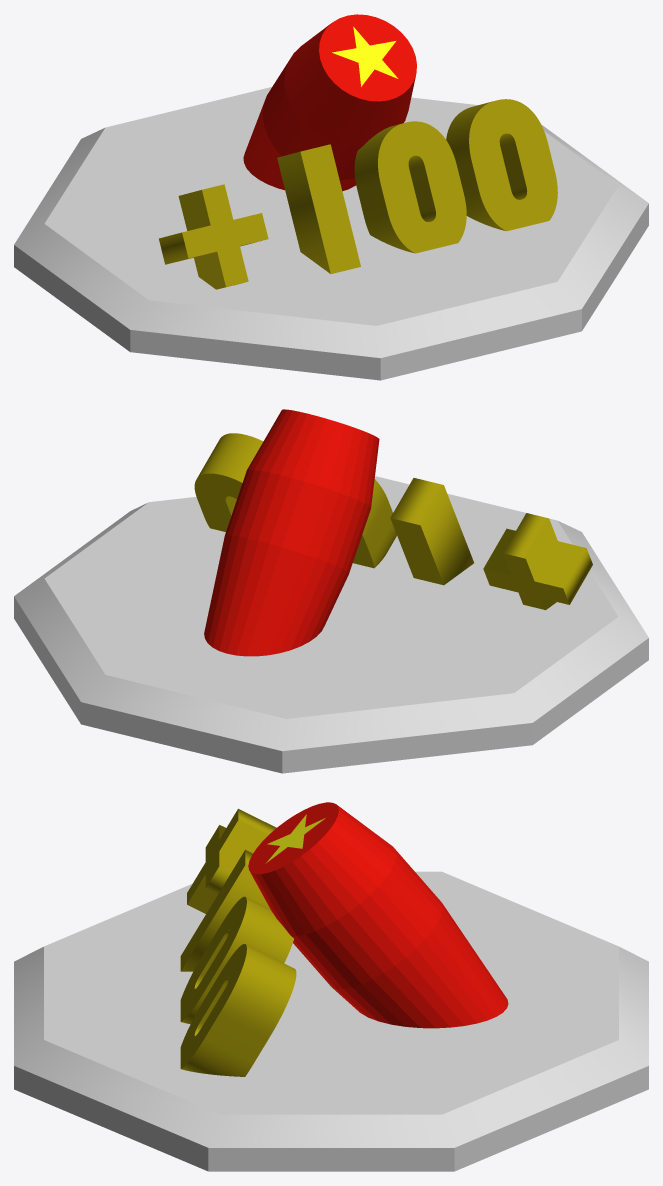
Rendered from gPinger100.fbx.
3 views of the same model, one above another, from view 1: azimuth 30°, elevation 25°; view 2: azimuth 150°, elevation 25°; view 3: azimuth 270°, elevation 25° (orthographic). The views are drawn at different scales.
Visible parts, largest first — view 1: Cube.004, Text, Text.001; view 2: Cube.004, Text.001, Text; view 3: Cube.004, Text.001, Text.
Part boxes in pixels (bbox=[...]): Cube.004: bbox=[14, 87, 648, 380]; Text: bbox=[159, 99, 557, 289]; Text.001: bbox=[243, 14, 416, 191]; Cube.004: bbox=[14, 476, 648, 773]; Text.001: bbox=[204, 409, 379, 656]; Text: bbox=[194, 433, 592, 610]; Cube.004: bbox=[14, 871, 648, 1171]; Text.001: bbox=[248, 802, 508, 1028]; Text: bbox=[180, 808, 296, 1076].
Bounding box in the file's own units: 90.03 × 39.51 × 90.03.
